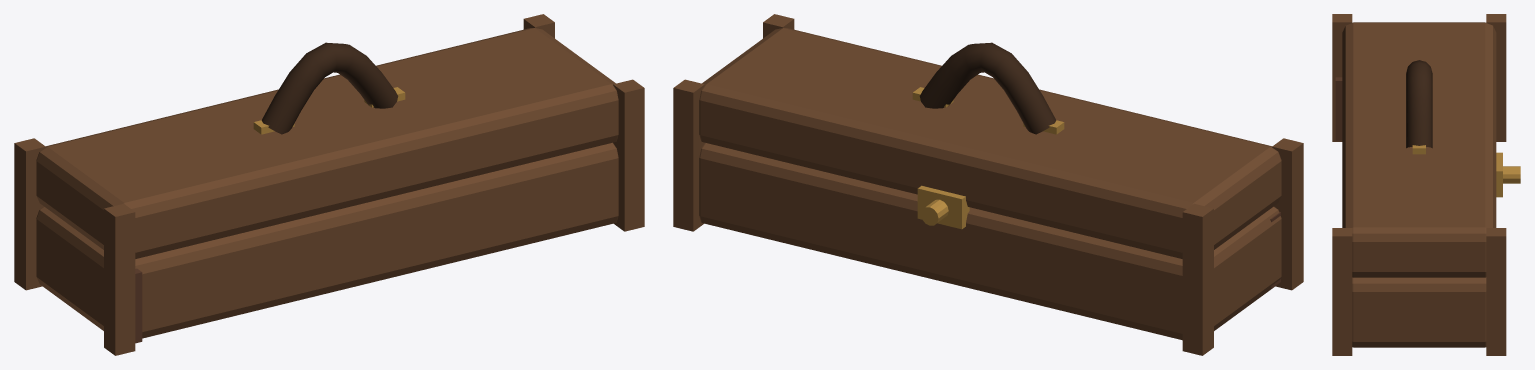
File: 19_paint_box.fbx
3 renders of one model, left to right at view 1: azimuth 30°, elevation 25°; view 2: azimuth 150°, elevation 25°; view 3: azimuth 270°, elevation 25°, orthographic. The views are drawn at different scales.
Parts seen in each view (by area): view 1: BoxLid, BoxBody, BoxHandle, Corner, Corner.002, Corner.001; view 2: BoxLid, BoxBody, BoxHandle, Corner.001, Corner.003, Corner, LatchUpper, LatchLower, LatchKnob; view 3: BoxLid, BoxBody, Corner.002, Corner.003, BoxHandle, Corner.001, Corner, LatchKnob, LatchUpper, Teeth.003.
Boxes of the visible parts, x1,y1,x2,y2 form: BoxLid: [36, 28, 618, 258]; BoxBody: [36, 142, 618, 338]; BoxHandle: [261, 42, 398, 134]; Corner: [104, 203, 135, 355]; Corner.002: [613, 79, 644, 231]; Corner.001: [14, 138, 45, 290]; BoxLid: [699, 28, 1281, 258]; BoxBody: [699, 142, 1281, 340]; BoxHandle: [919, 42, 1056, 134]; Corner.001: [1182, 203, 1213, 355]; Corner.003: [673, 79, 704, 231]; Corner: [1272, 138, 1303, 290]; LatchUpper: [917, 185, 969, 218]; LatchLower: [917, 198, 969, 229]; LatchKnob: [921, 199, 948, 225]; BoxLid: [1342, 22, 1496, 277]; BoxBody: [1352, 277, 1486, 347]; Corner.002: [1332, 228, 1352, 355]; Corner.003: [1486, 228, 1506, 355]; BoxHandle: [1406, 60, 1432, 148]; Corner.001: [1486, 14, 1506, 141]; Corner: [1332, 14, 1352, 141]; LatchKnob: [1503, 166, 1520, 183]; LatchUpper: [1496, 152, 1502, 189]; Teeth.003: [1335, 77, 1342, 98].
Bounding box in the file's own units: 0.478 × 0.182 × 0.171.
